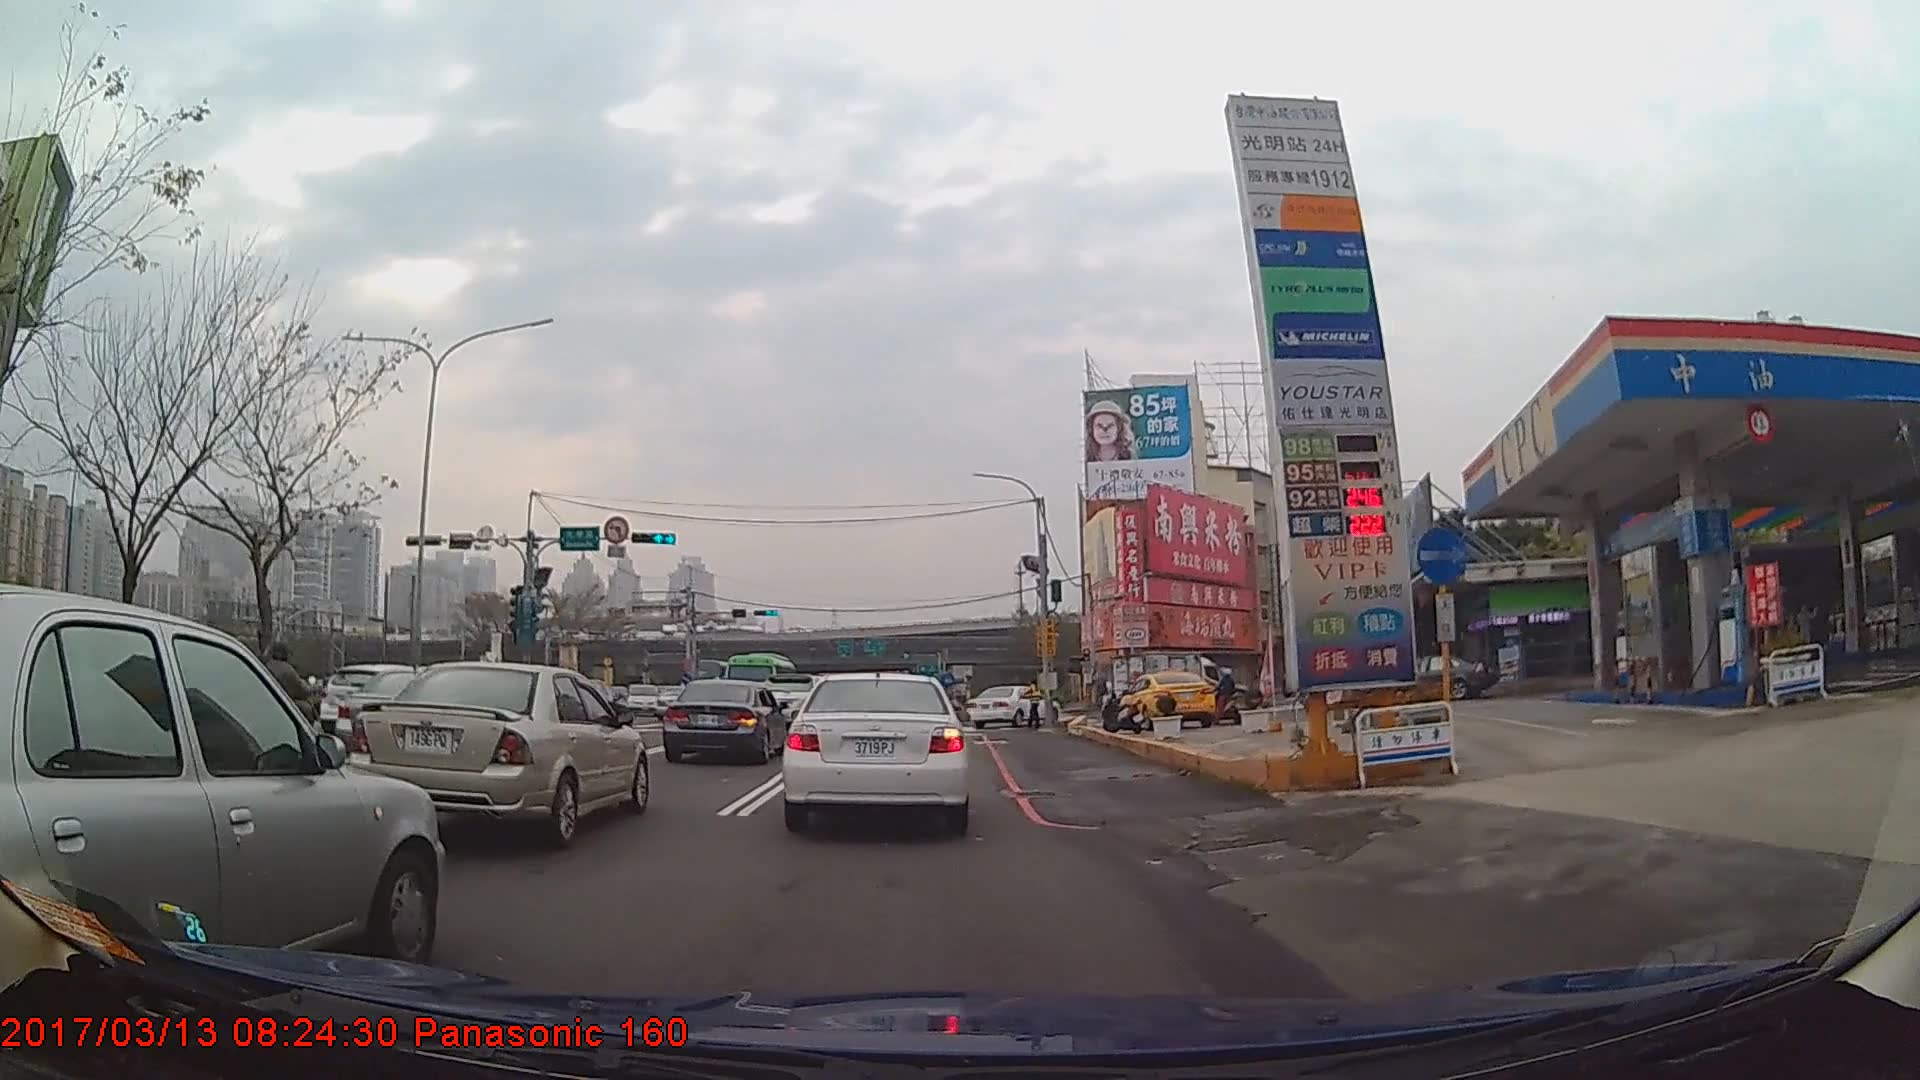rider: (247, 641, 326, 766), (1319, 658, 1360, 719), (1209, 668, 1244, 726)
vehicle: (0, 581, 445, 1002), (350, 660, 650, 847), (785, 668, 970, 832), (661, 677, 789, 765), (1108, 649, 1222, 714), (1120, 670, 1219, 729), (720, 650, 797, 709), (1395, 653, 1496, 697), (966, 683, 1059, 729)
